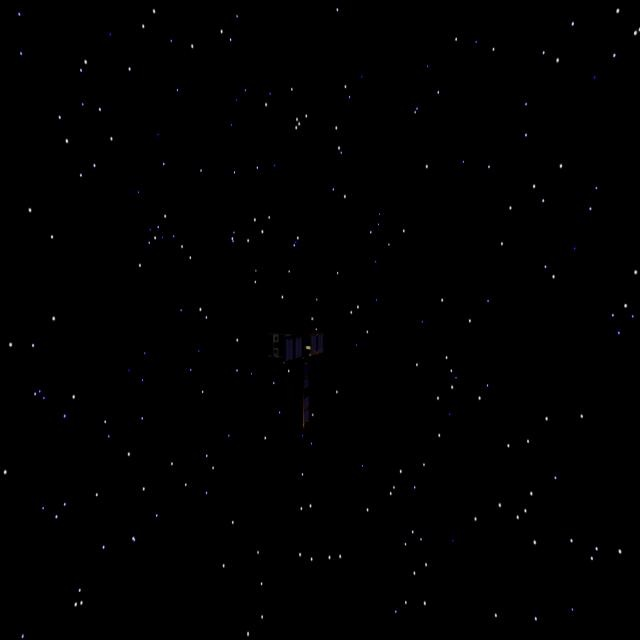satellite: (259, 294, 357, 438)
